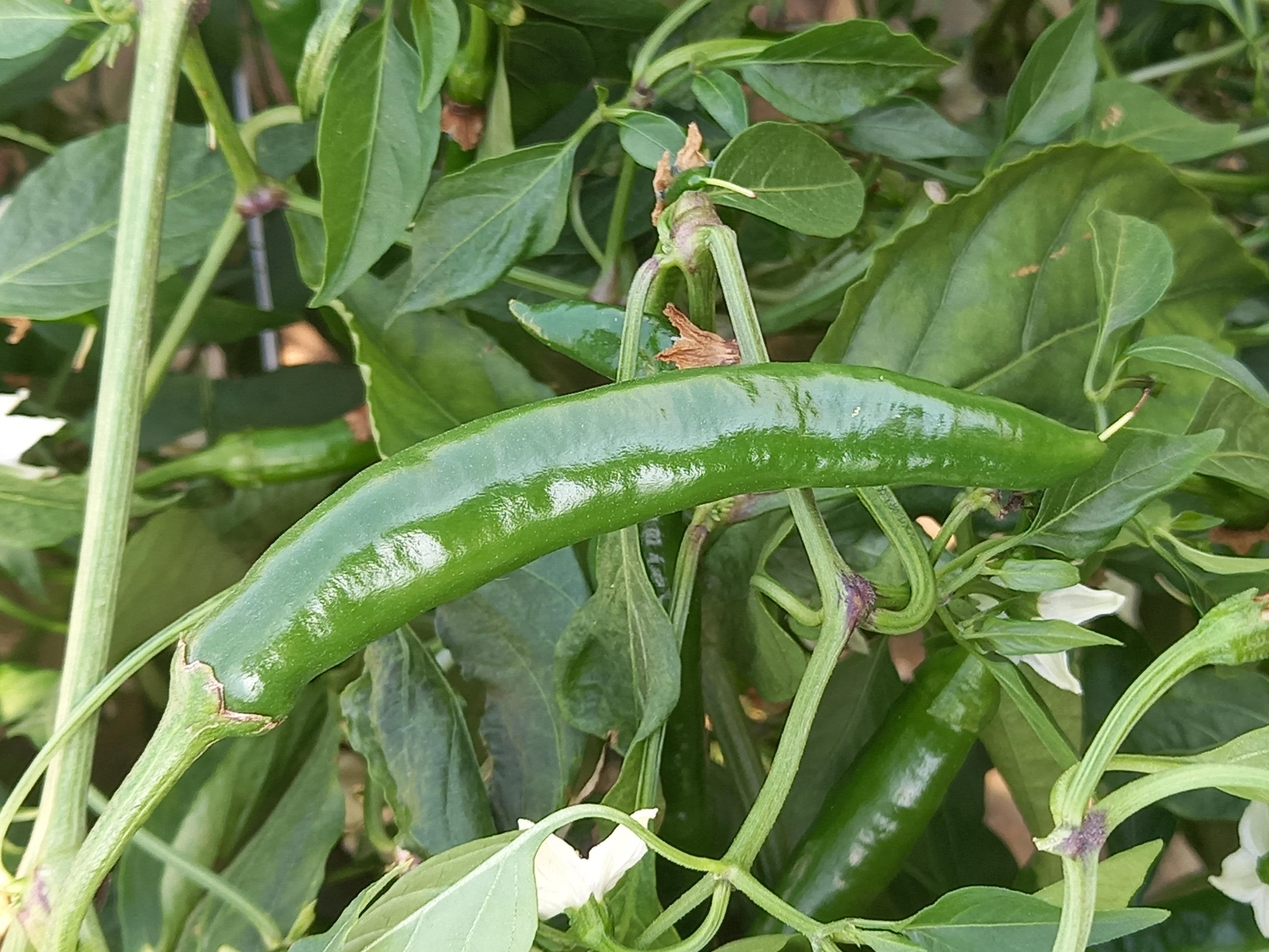Buah Cabai Sehat: (165, 353, 1111, 740)
Daun Cabai Sehat: (305, 11, 450, 316), (387, 140, 577, 327), (746, 17, 952, 128), (705, 117, 883, 243)
